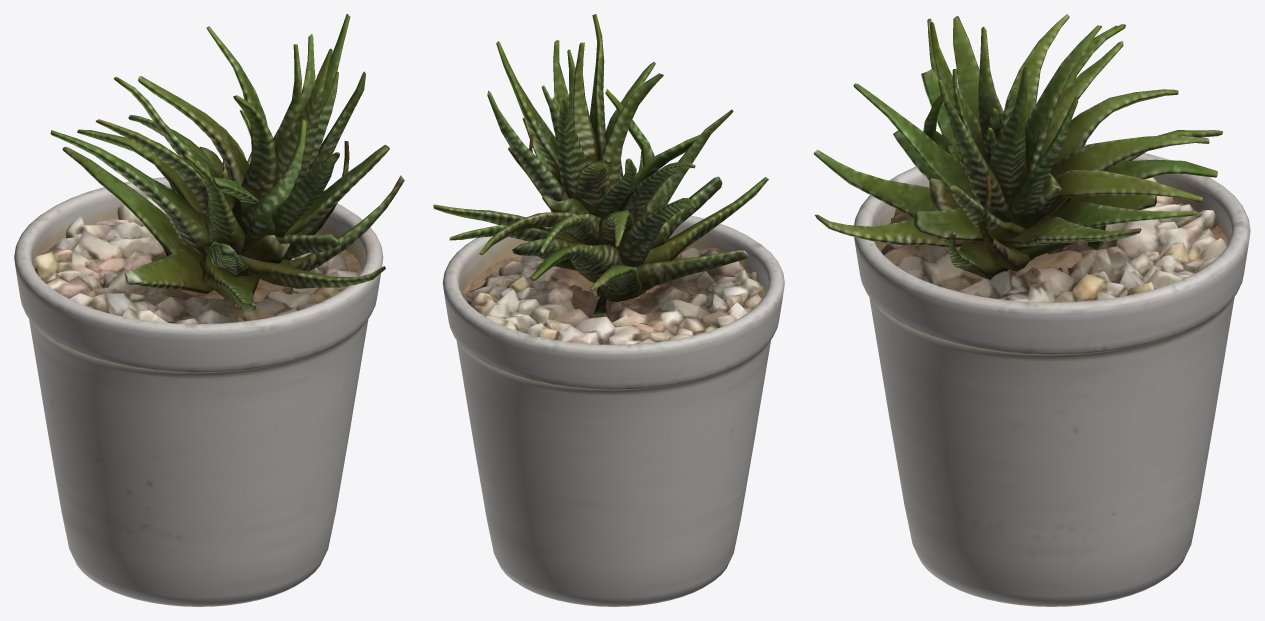
The model's file is potted_plant_04.glb.
3 views of the same model, side by side, from view 1: azimuth 30°, elevation 25°; view 2: azimuth 150°, elevation 25°; view 3: azimuth 270°, elevation 25° (orthographic). The views are drawn at different scales.
Parts seen in each view (by area): view 1: potted_plant_04_ground; view 2: potted_plant_04_ground; view 3: potted_plant_04_ground.
Part boxes in pixels (box(x1,y1,x2,y2)): potted_plant_04_ground: box(14, 14, 404, 606); potted_plant_04_ground: box(433, 14, 784, 606); potted_plant_04_ground: box(813, 14, 1250, 606).
Size of the model in its own units: 0.1679 by 0.2675 by 0.1848.
1 material, 1 textured.
